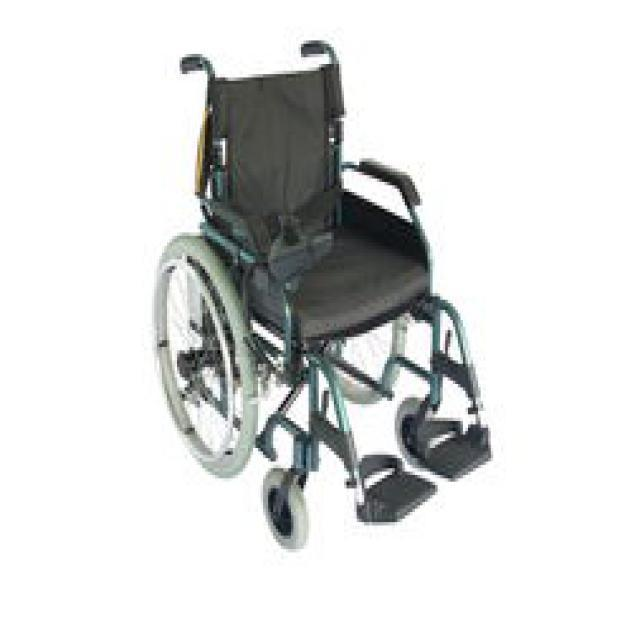wheelchair: (149, 30, 491, 559)
